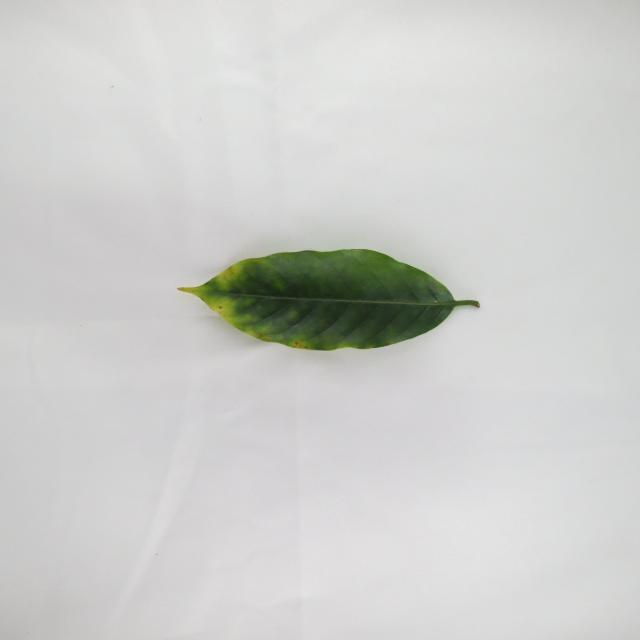DeficienciaNutricional-Potasio: (178, 249, 478, 350)
